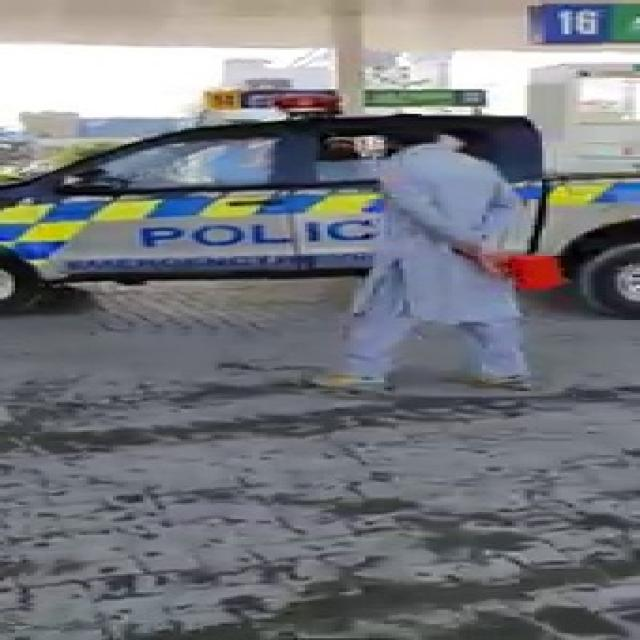police: (22, 80, 592, 296)
